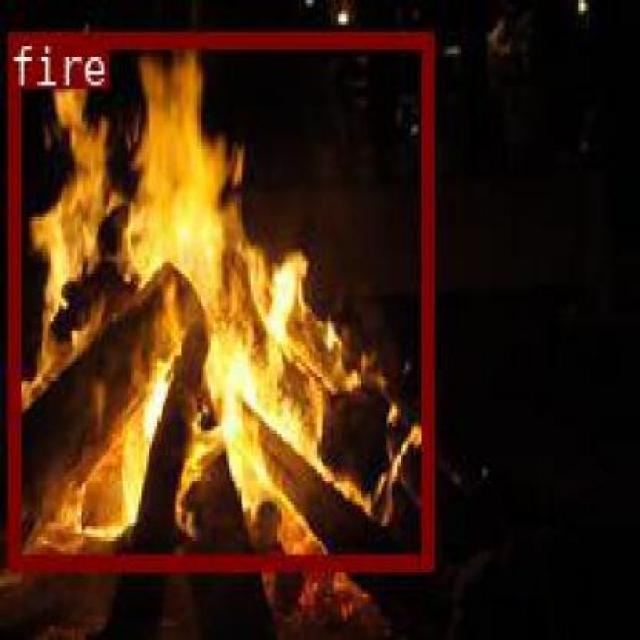Fire: (7, 29, 430, 568)
